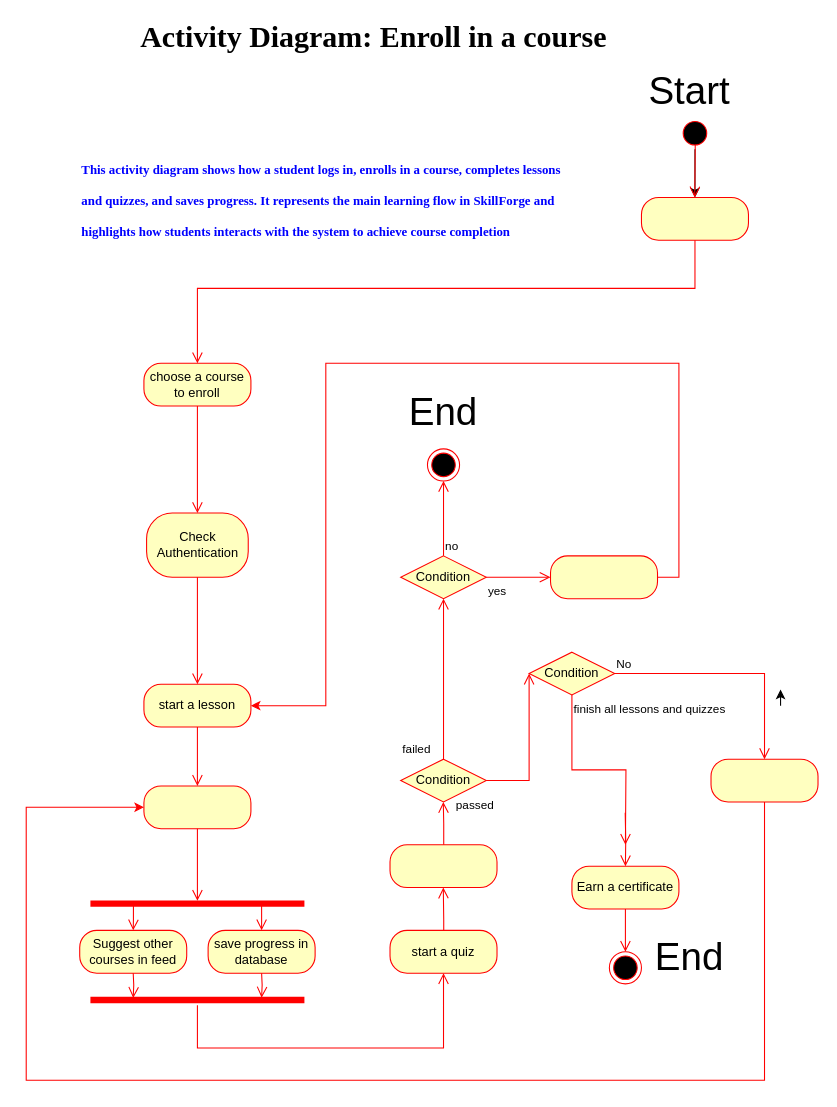
Image size: 837x1107. Some labels were removed from this diagram. Here are the shapes that lost their labels. From the top down, the box of each, then its label:
(640, 196, 748, 240): Log in as a student
(549, 555, 658, 599): retry the lesson
(710, 758, 818, 802): start a new lesson
(143, 785, 251, 829): complete a lesson
(389, 844, 497, 888): finish a quiz
